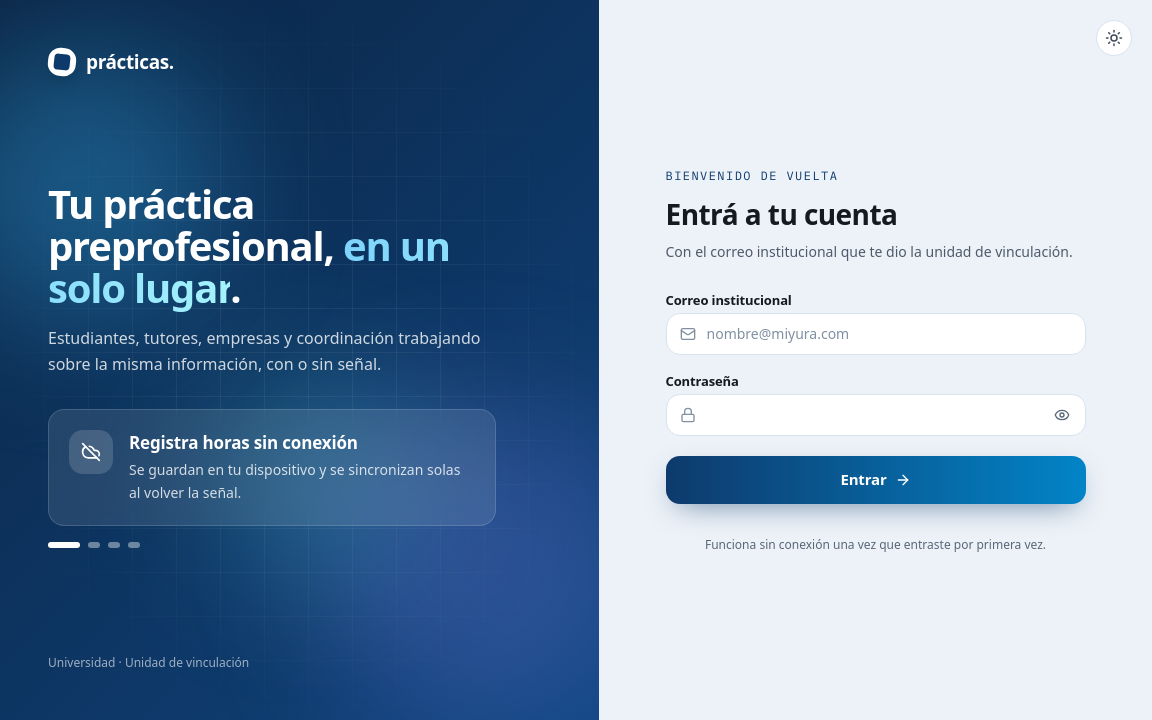
Test: LoginPage › shows the error and shakes the form when the login fails
This screenshot has width=1152, height=720.
Click the button "Entrar".
click(876, 480)  # box [666, 456, 1086, 504]
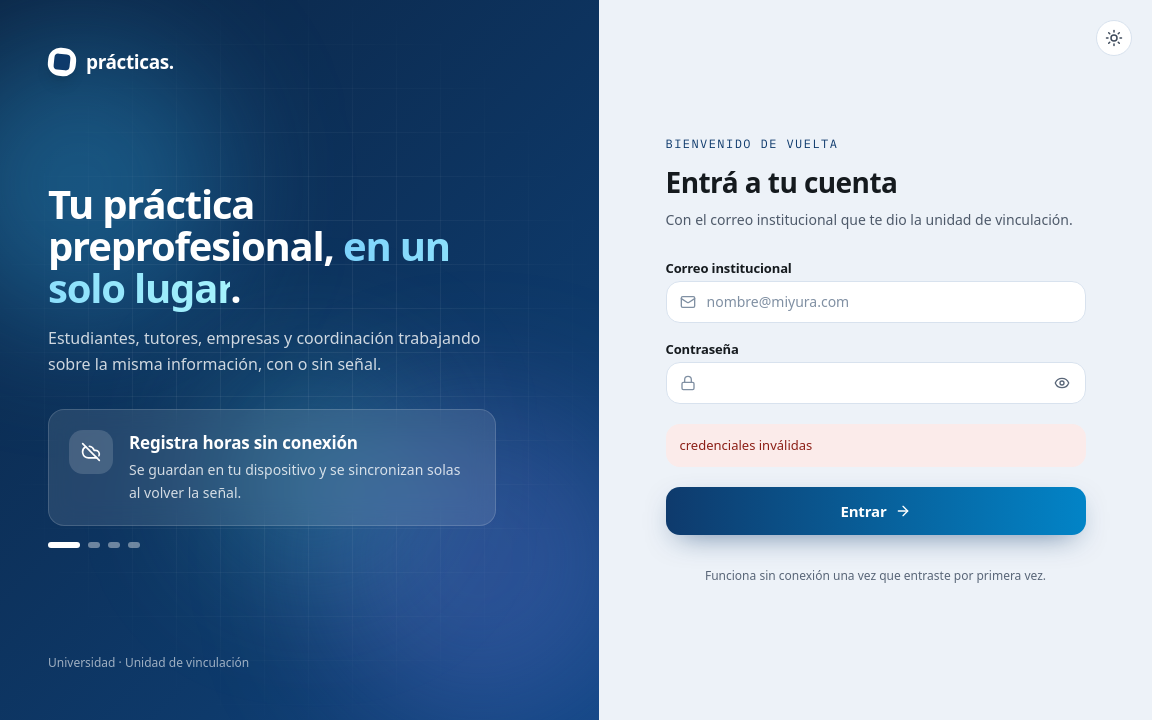
Check: the message reads "credenciales inválidas", box [680, 436, 812, 454]
